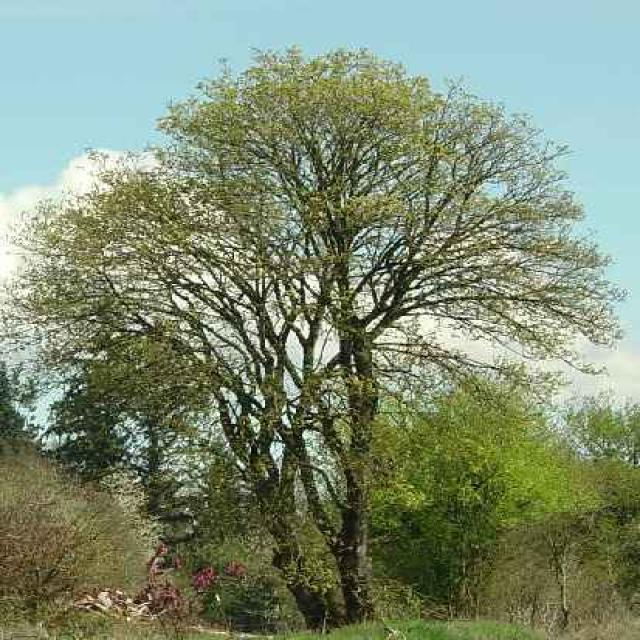Fraxinus latifolia: (0, 31, 637, 632)
